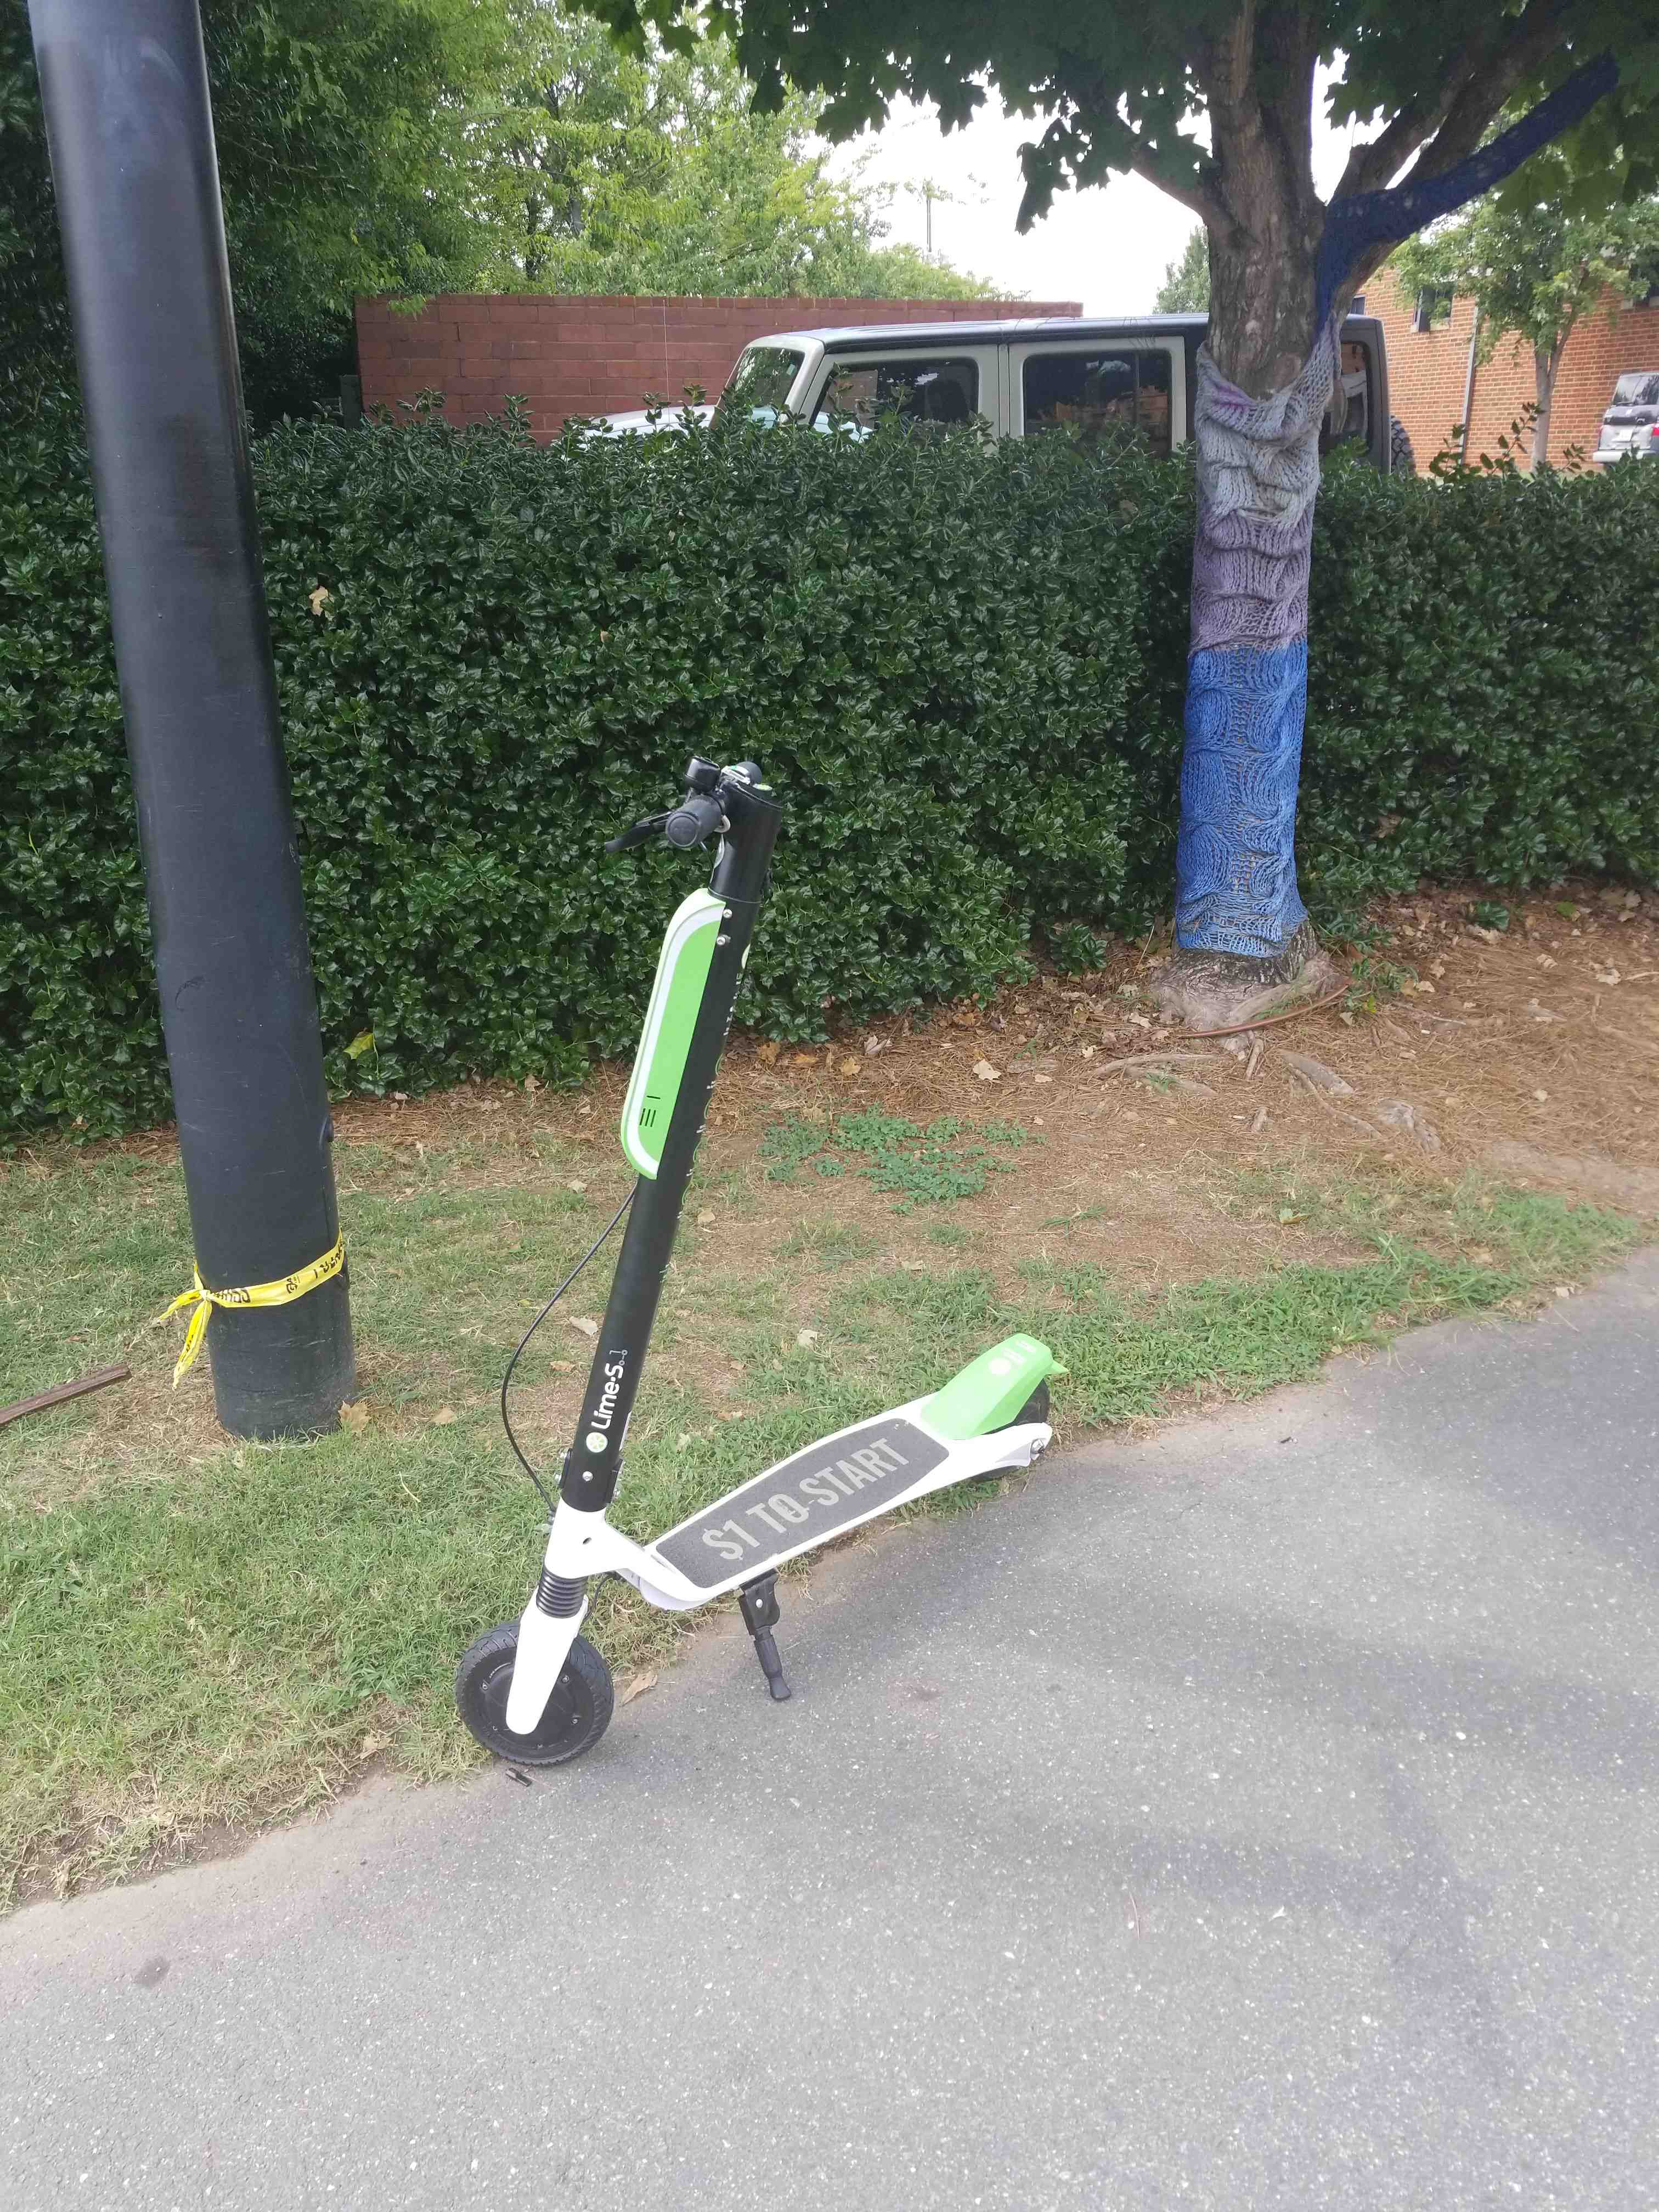scooter: (457, 712, 1150, 1831)
